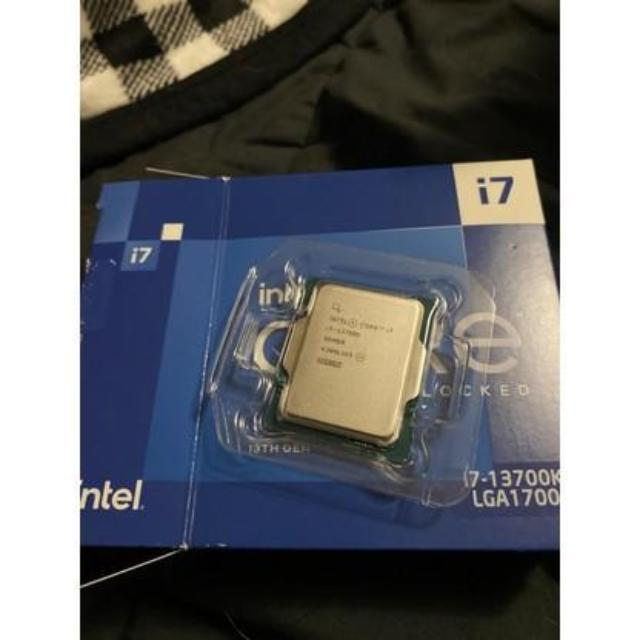CPU: (274, 282, 438, 456)
